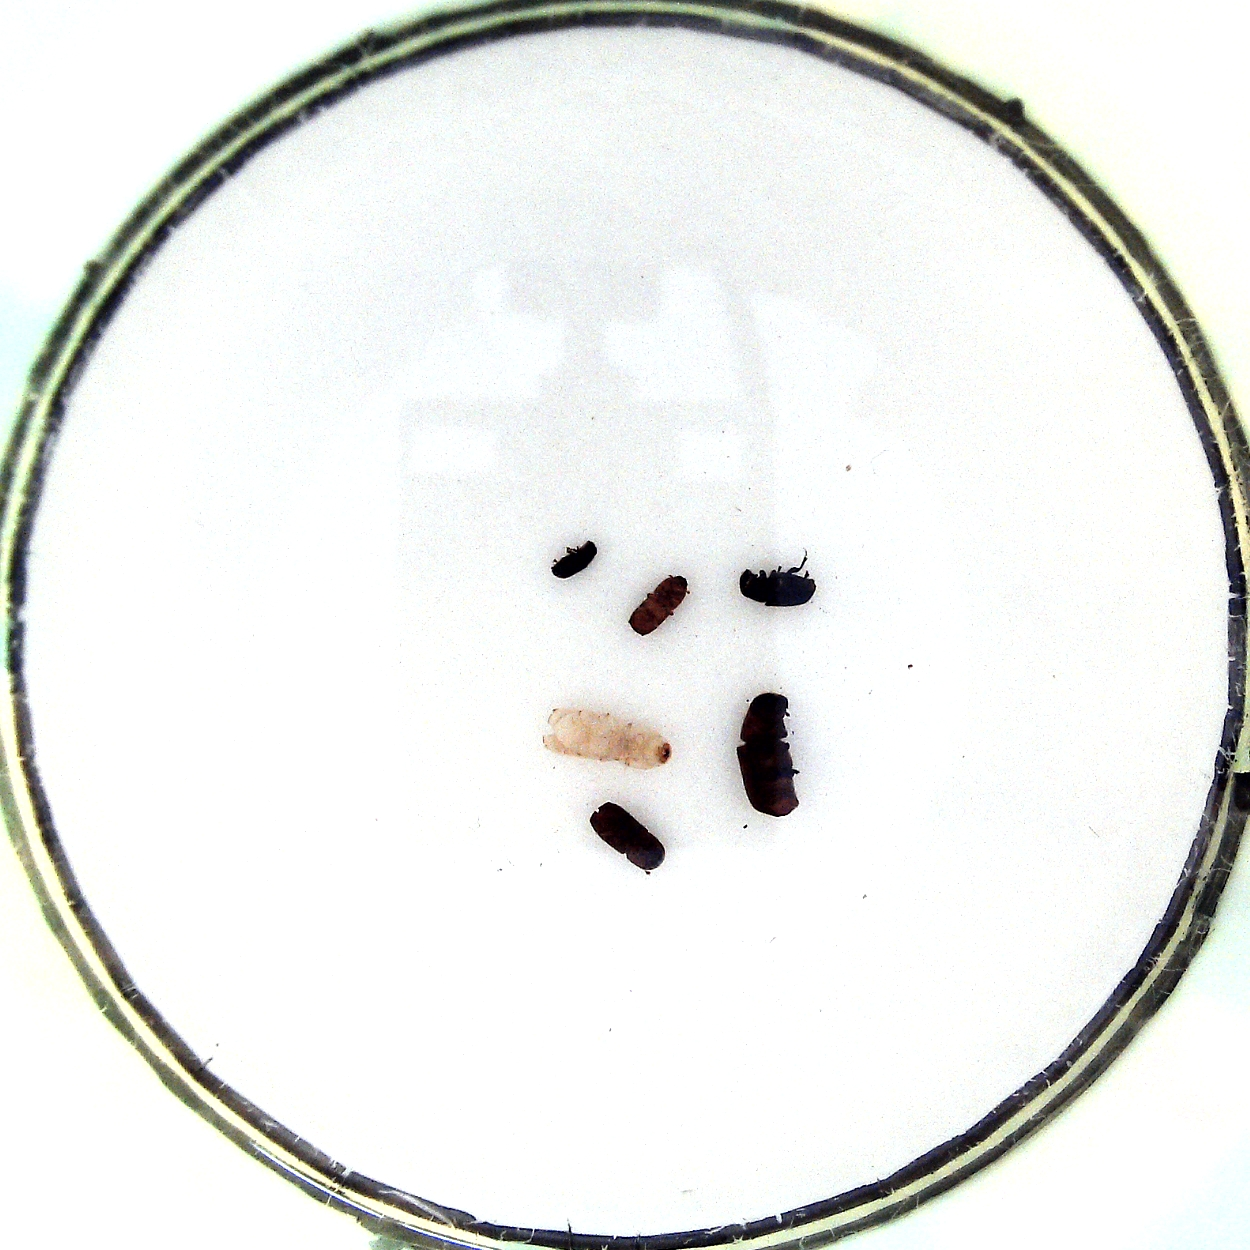Boerner: (544, 703, 677, 772)
Leconte: (733, 693, 802, 817)
Linnaeus: (587, 801, 668, 878)
acuminatus: (626, 572, 697, 639)
armandi: (736, 552, 821, 612)
coleoptera: (551, 535, 598, 588)
